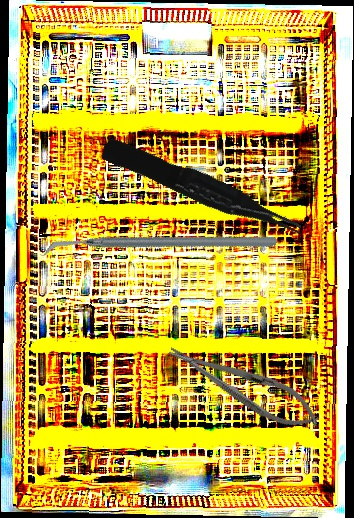Chopper: (40, 154, 279, 339)
Needle Holder: (161, 331, 327, 440)
Tissue Forceps: (99, 128, 305, 251)
